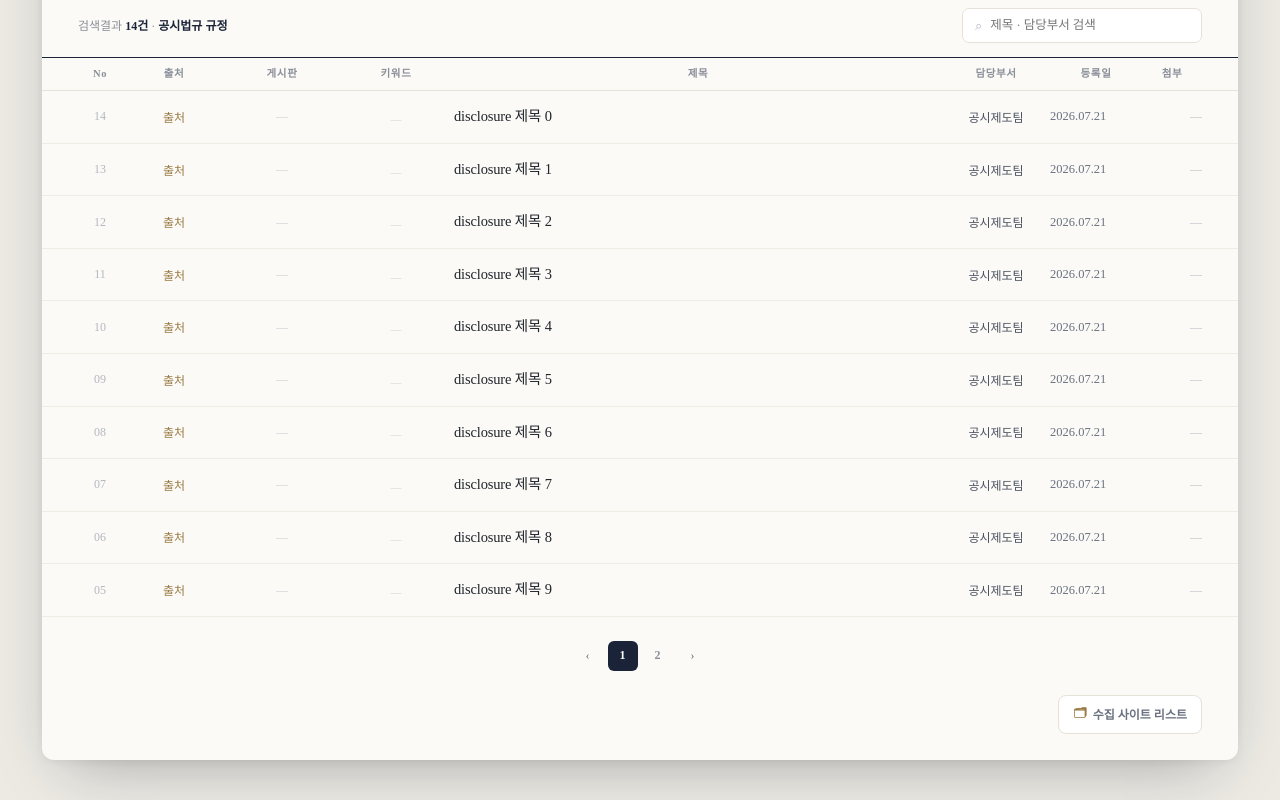
Test: Board › switching tabs resets page to 0
The image size is (1280, 800).
(page scrolled)
Step 1. Click the text "2" → (658, 655), box [654, 648, 660, 662]
(page scrolled)
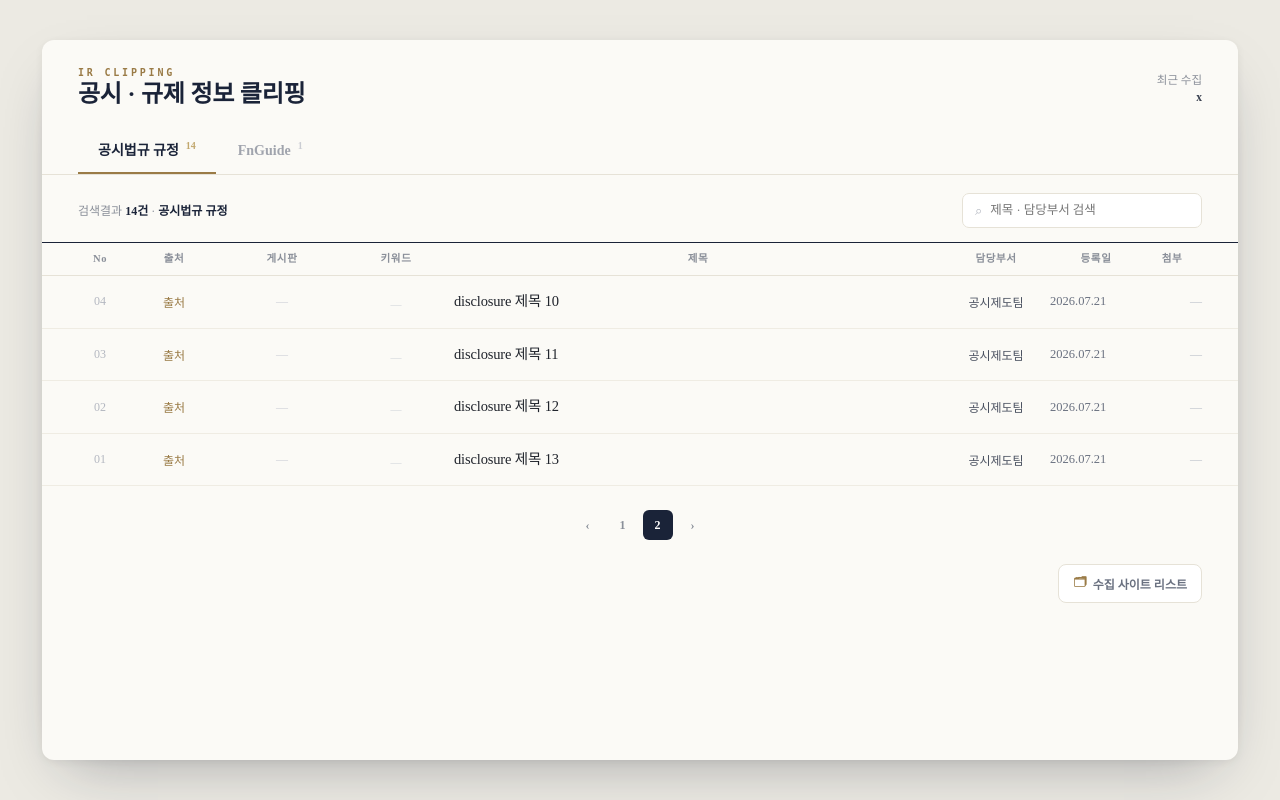
expect the text "disclosure 제목 10" is shown: met, box [454, 293, 559, 309]
expect the text "disclosure 제목 0" is gone: met
Step 2. Click the text "FnGuide" → (270, 149), box [238, 140, 303, 158]
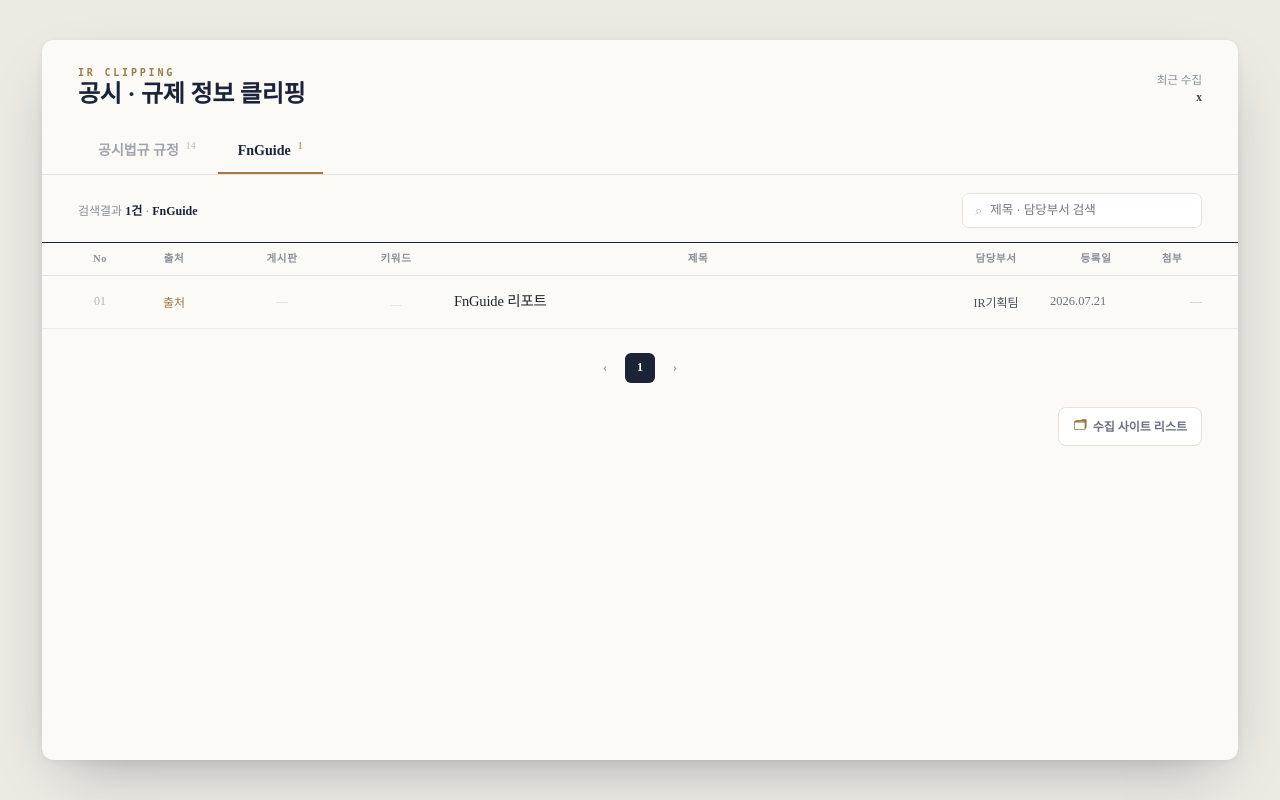
Step 3. Click the text "공시법규 규정" → (147, 149), box [98, 140, 196, 158]
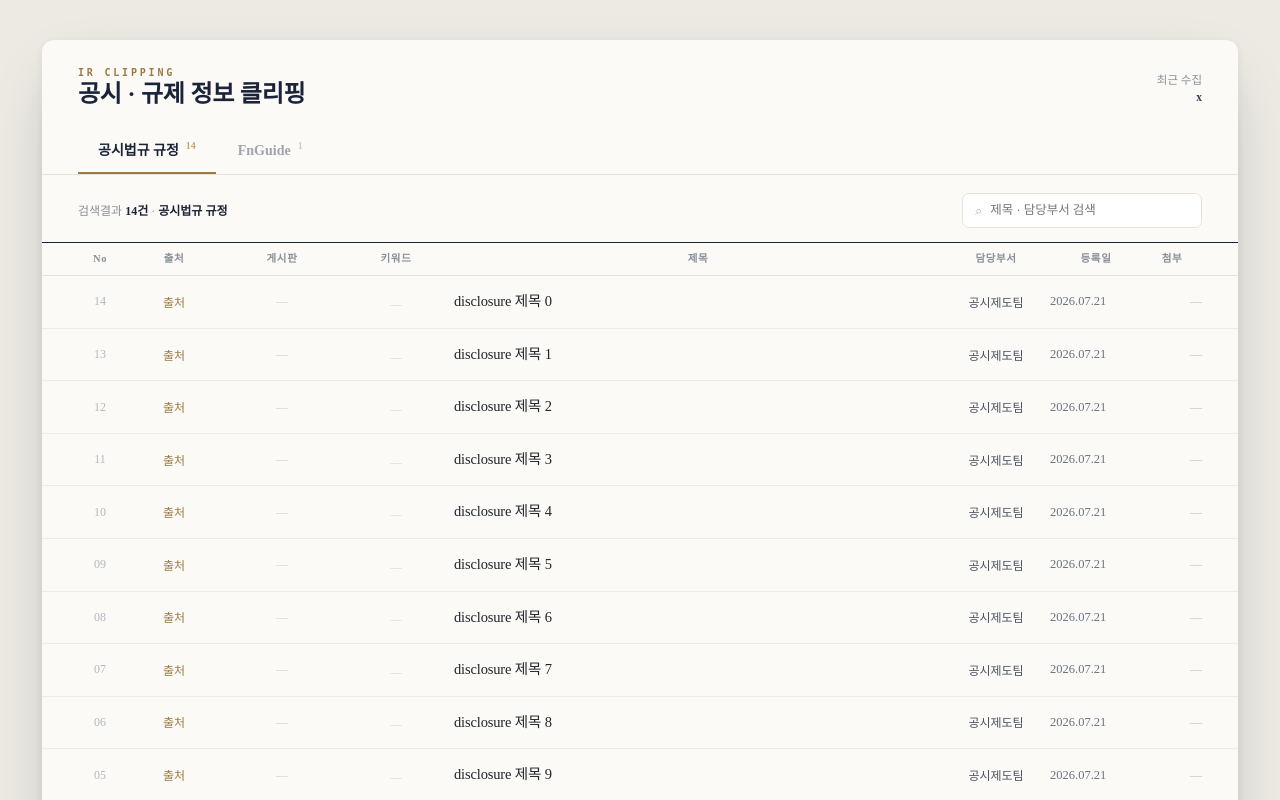
expect the text "disclosure 제목 10" is not shown: met
expect the text "disclosure 제목 0" is shown: met, box [454, 293, 552, 309]
